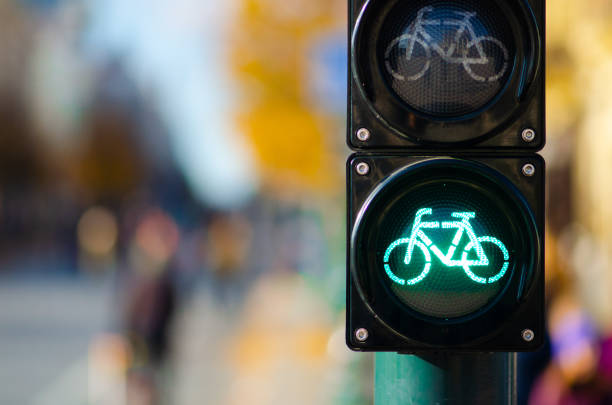Traffic Signal: (342, 1, 561, 360)
